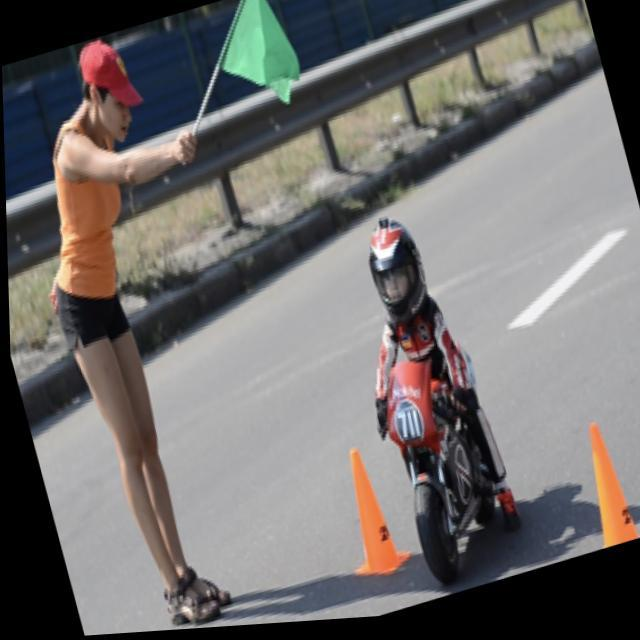Helmet: (357, 206, 435, 328)
